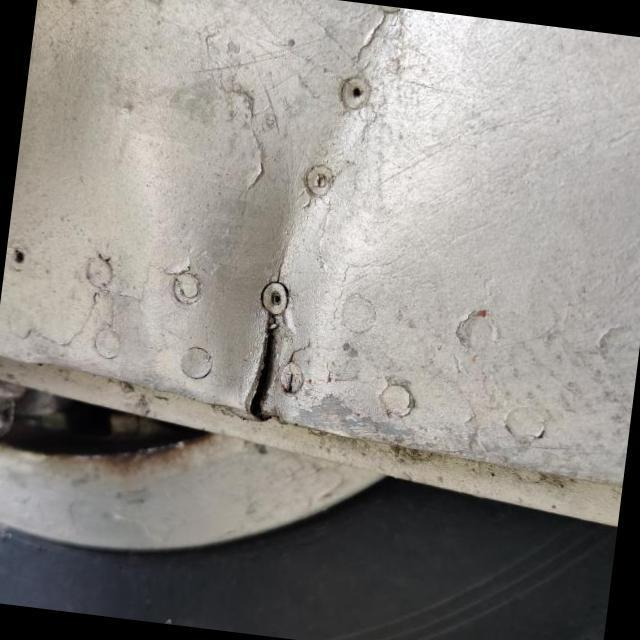Rupture: (210, 296, 318, 436)
